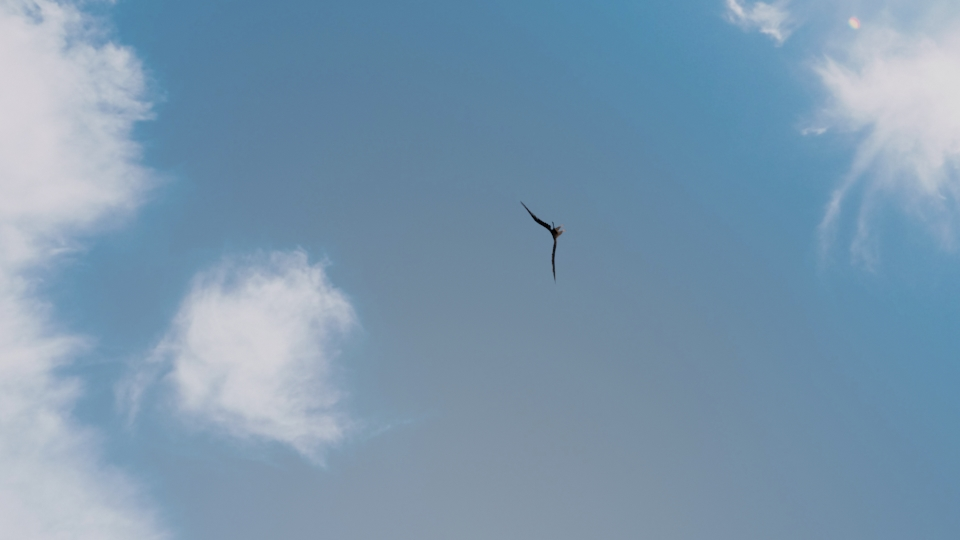bird: (524, 200, 564, 279)
